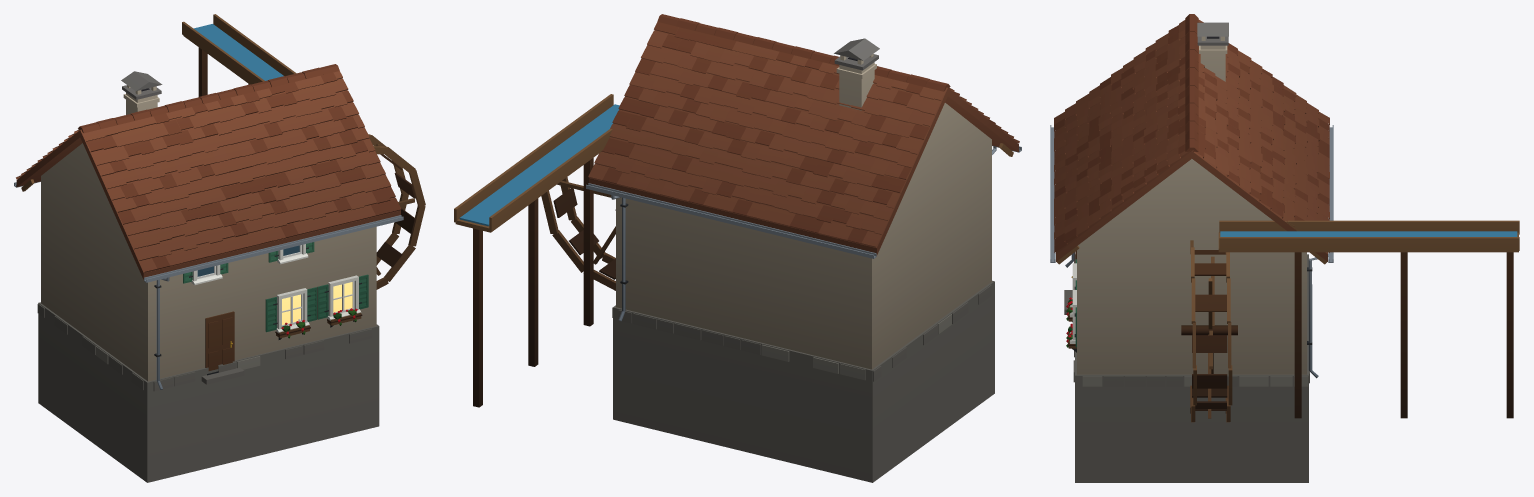
The model's file is WaterMill.fbx.
The picture shows the model from 3 angles, left to right: view 1: azimuth 30°, elevation 25°; view 2: azimuth 150°, elevation 25°; view 3: azimuth 270°, elevation 25°; orthographic projection. The views are drawn at different scales.
Parts seen in each view (by area): view 1: WaterMill_LOD0; view 2: WaterMill_LOD0; view 3: WaterMill_LOD0.
Part boxes in pixels (x1=…): WaterMill_LOD0: x1=14, y1=14, x2=425, y2=482; WaterMill_LOD0: x1=454, y1=14, x2=1021, y2=482; WaterMill_LOD0: x1=1050, y1=14, x2=1519, y2=482.
Size of what is drawn, in the model's own units: 12.11 by 11.53 by 13.28.
Materials: 1 (1 with a texture image).
